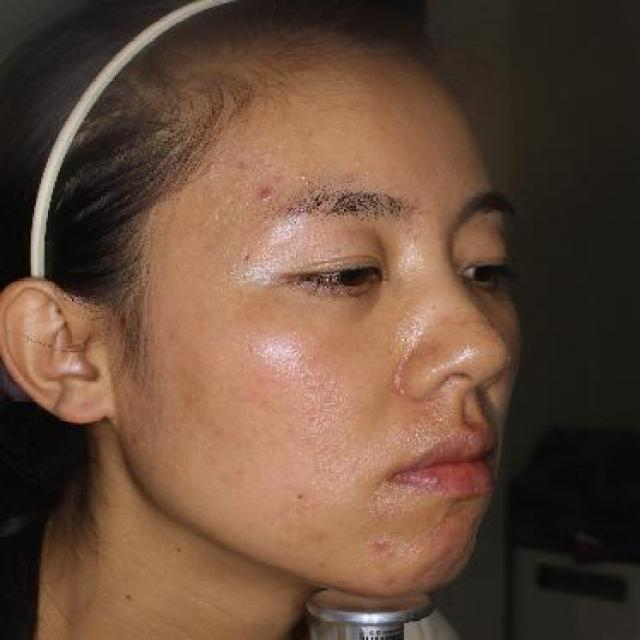Acne: (399, 534, 460, 588), (370, 534, 397, 557), (255, 182, 277, 206)
Blackheads: (118, 585, 142, 612), (288, 482, 312, 506)
Whiteheads: (288, 165, 322, 186), (353, 151, 378, 171), (325, 480, 339, 498)
